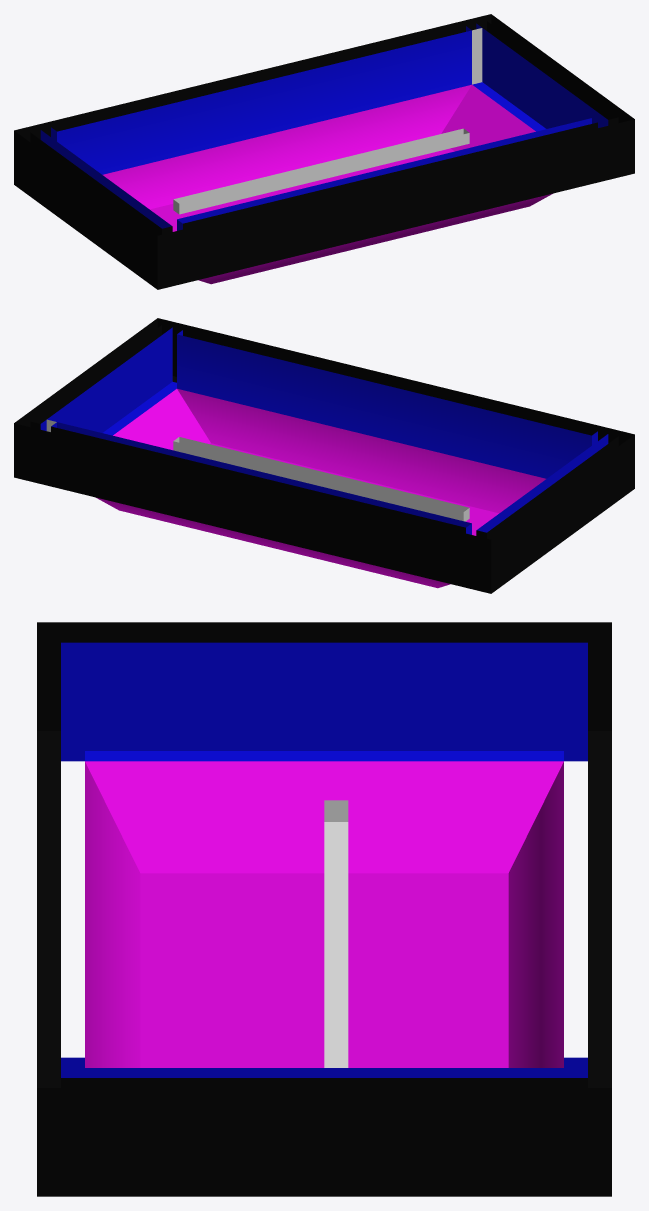
File: Light.fbx
The picture shows the model from 3 angles, top to bottom: view 1: azimuth 30°, elevation 25°; view 2: azimuth 150°, elevation 25°; view 3: azimuth 270°, elevation 25°; orthographic projection. The views are drawn at different scales.
Parts seen in each view (by area): view 1: pCube1; view 2: pCube1; view 3: pCube1.
Boxes of the visible parts, x1,y1,x2,y2 form: pCube1: [14, 14, 634, 289]; pCube1: [14, 318, 634, 593]; pCube1: [37, 622, 611, 1196].
Size of the model in its own units: 2.3 by 0.4 by 1.2.
